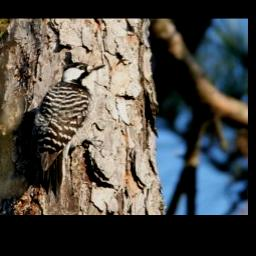Woodpecker: (33, 62, 106, 202)
